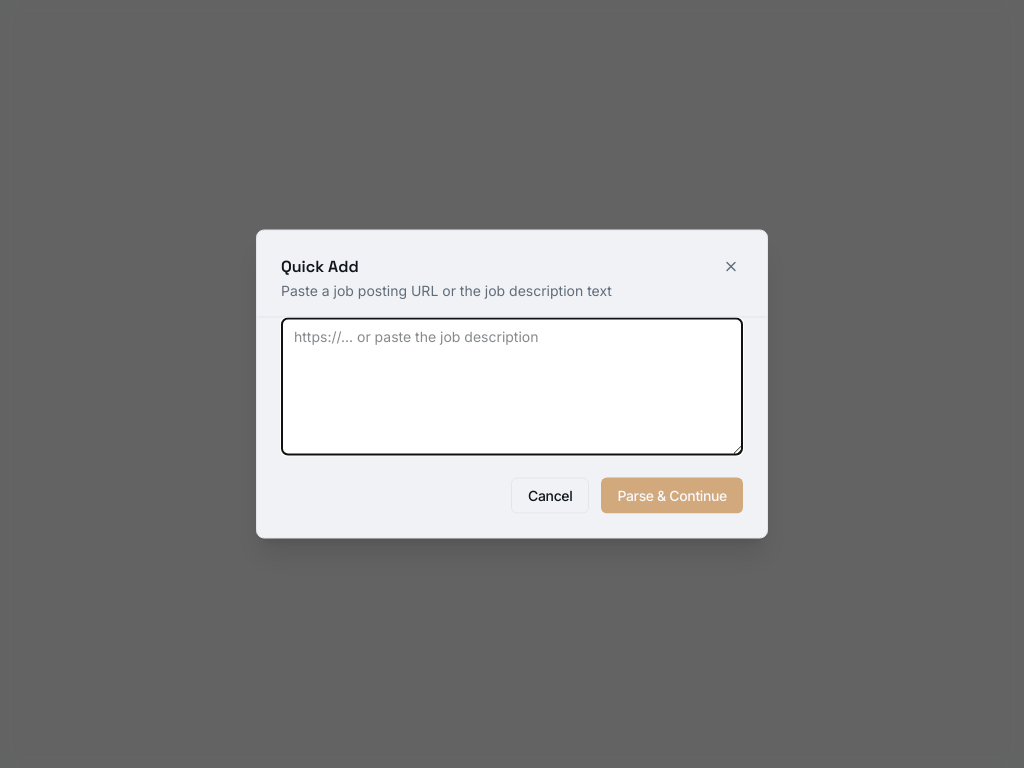
QuickAdd › shows the company history confirm when saving the parsed job
In the text box with placeholder "https://... or paste the job description": (512, 386) [281,318,743,456], type "Senior Engineer at Acme"
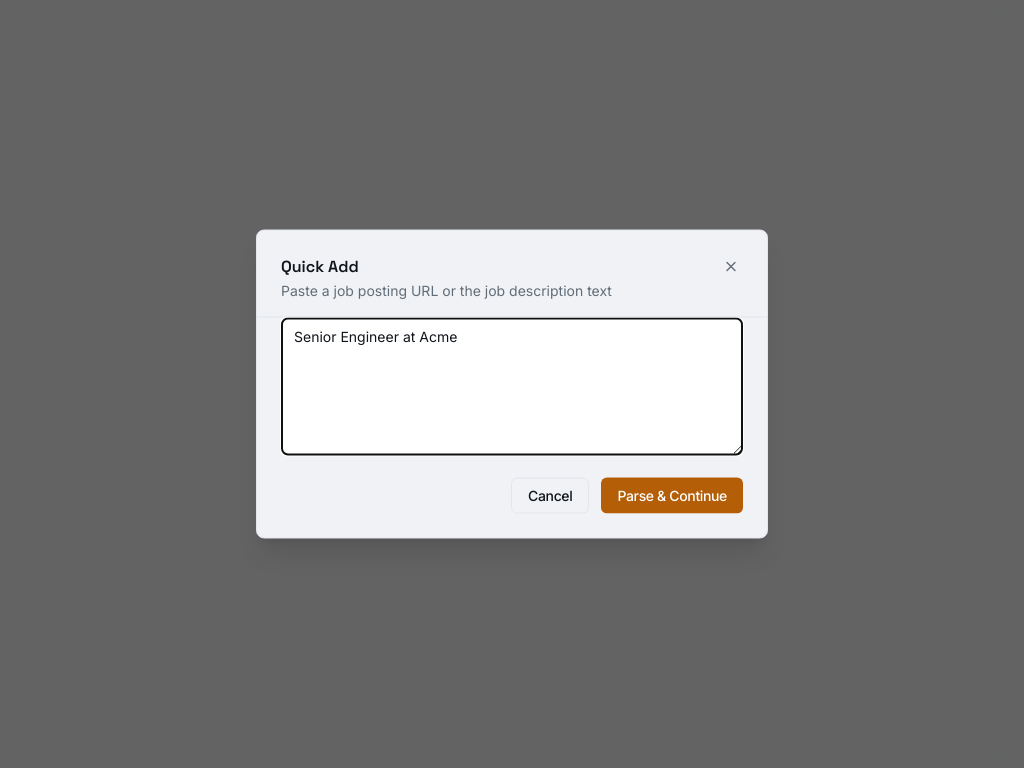
Click the button "Parse & Continue": (672, 496) [601,478,743,514]
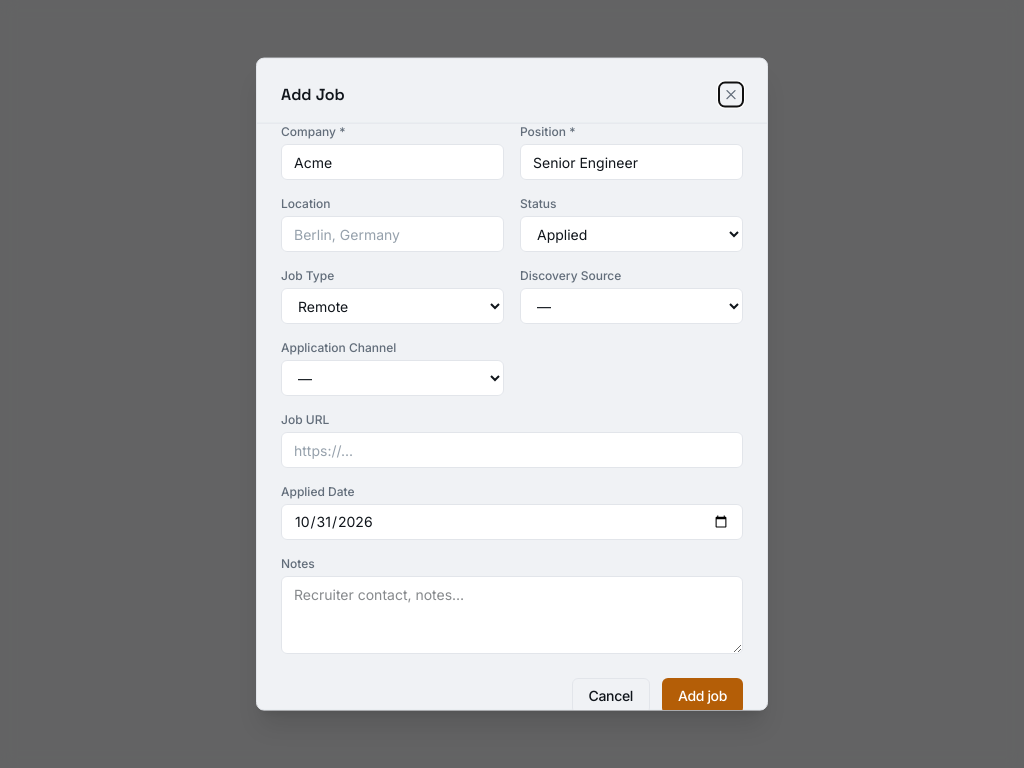
Expected: the heading "Add Job" is shown, [281,83,345,107]
Click the button "Add job": (702, 696) [662,678,743,714]
(page scrolled)
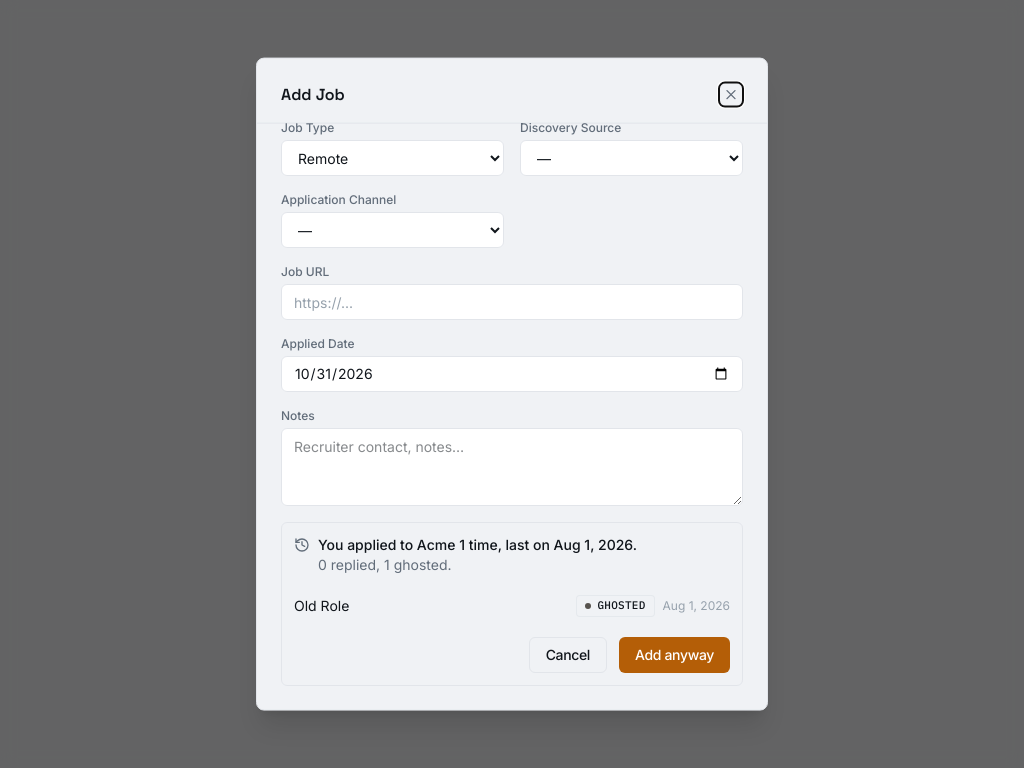
Expected: the dialog shows "You applied to Acme 1 time", [318,536,637,553]
